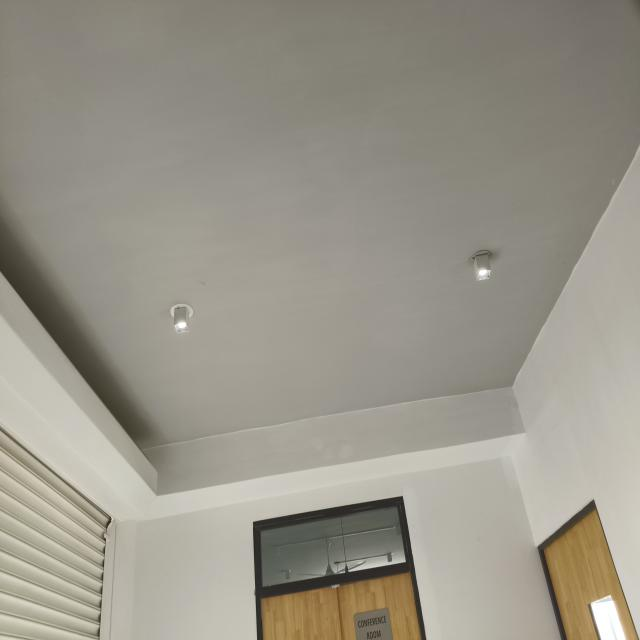light_on: (152, 284, 221, 365), (455, 224, 516, 310)
